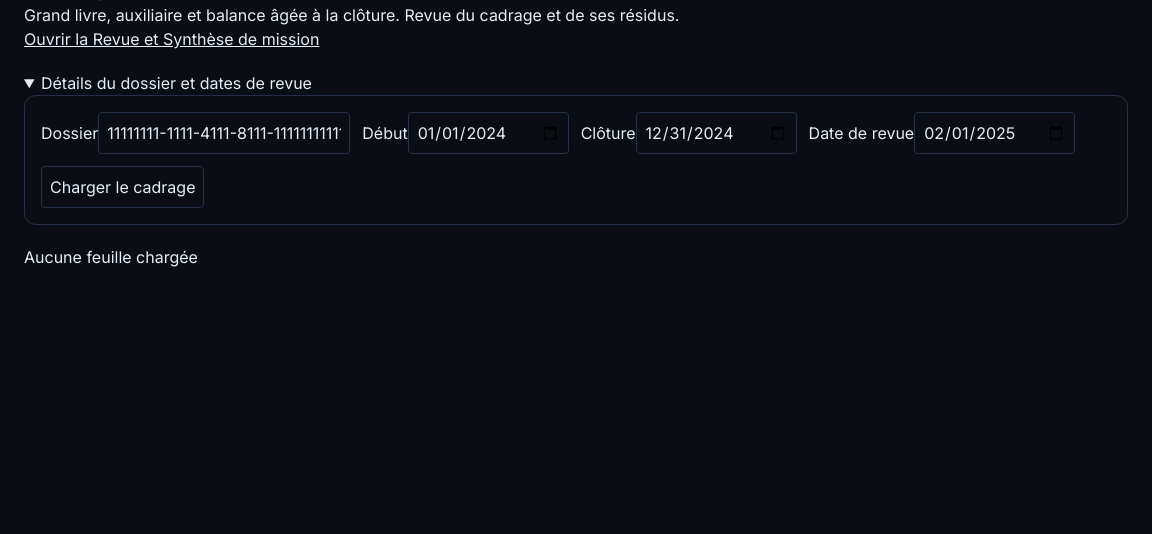
Test: feuille pilote durable — accusés et conflits › garde la même clé et le même contenu après une panne réseau
Click the button "Charger le cadrage".
click(123, 187)  # box [41,166,204,208]
(page scrolled)
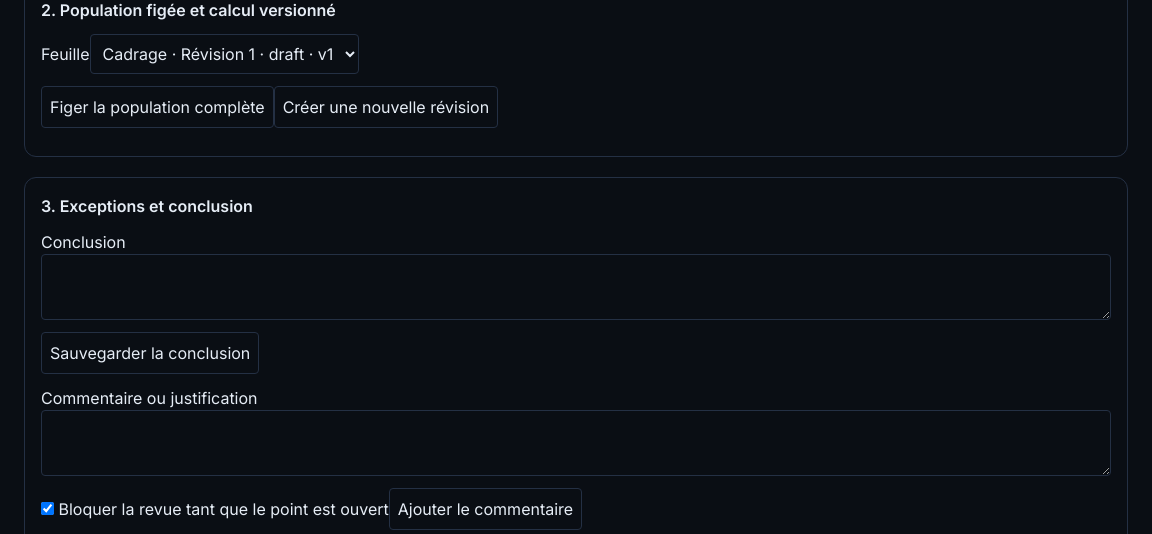
Type "Ma conclusion" into the text box labelled "Conclusion".
click(576, 287); type("Ma conclusion")  # box [41,254,1111,320]
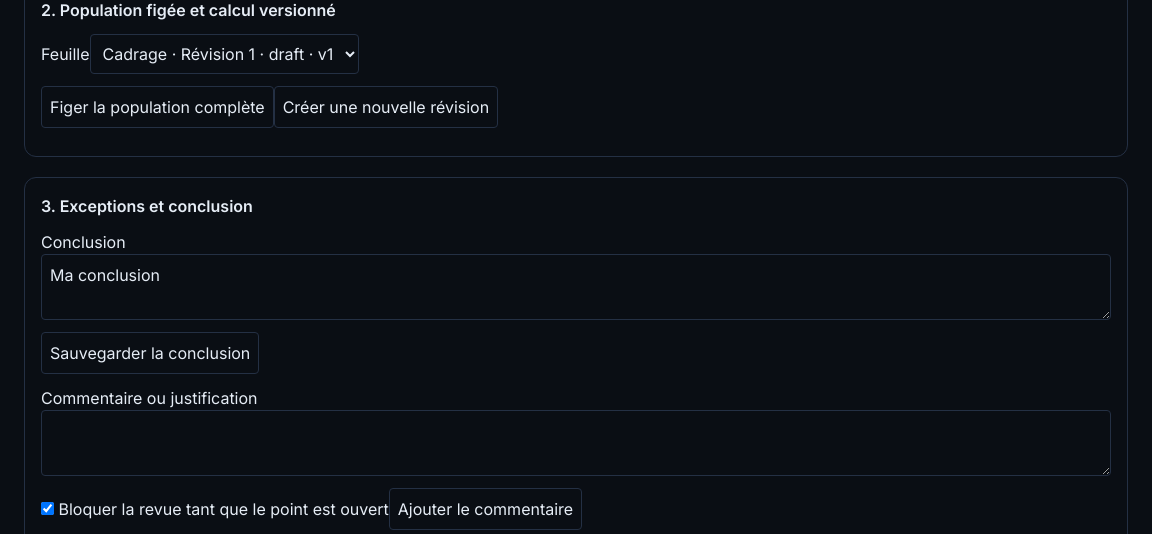
Click the button "Sauvegarder la conclusion".
click(150, 353)  # box [41,332,259,374]
(page scrolled)
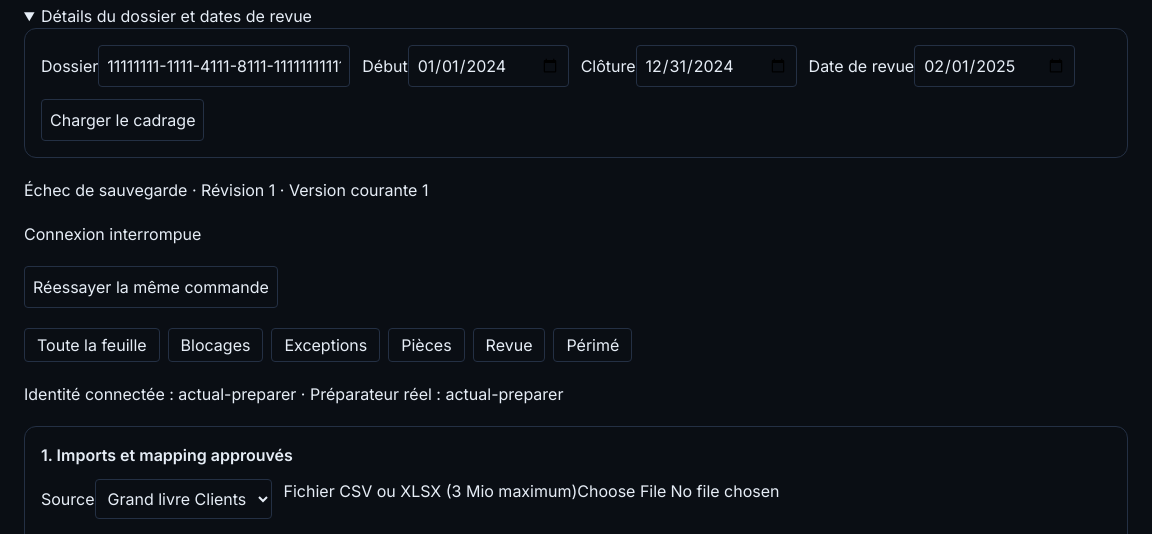
Expected: the text "Sauvegardée —" is not shown
Expected: the text "Échec de sauvegarde · Révision 1 · Version courante 1" is shown, [24,180,428,200]
Click the button "Réessayer la même commande".
click(151, 287)  # box [24,266,278,308]
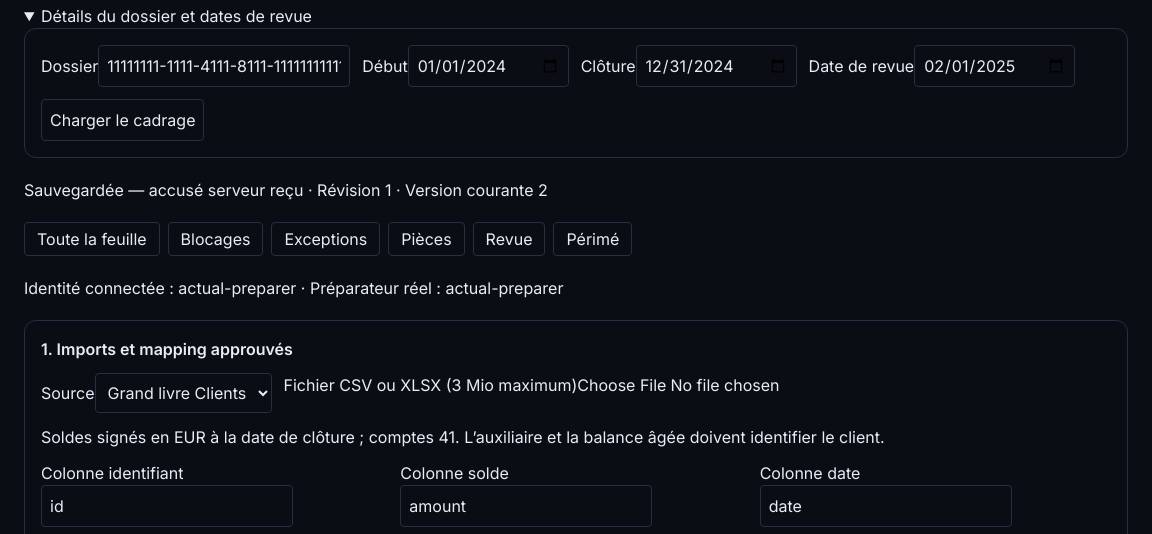
Expected: the text "Sauvegardée — accusé serveur reçu · Révision 1 · Version courante 2" is shown, [24,180,548,200]
